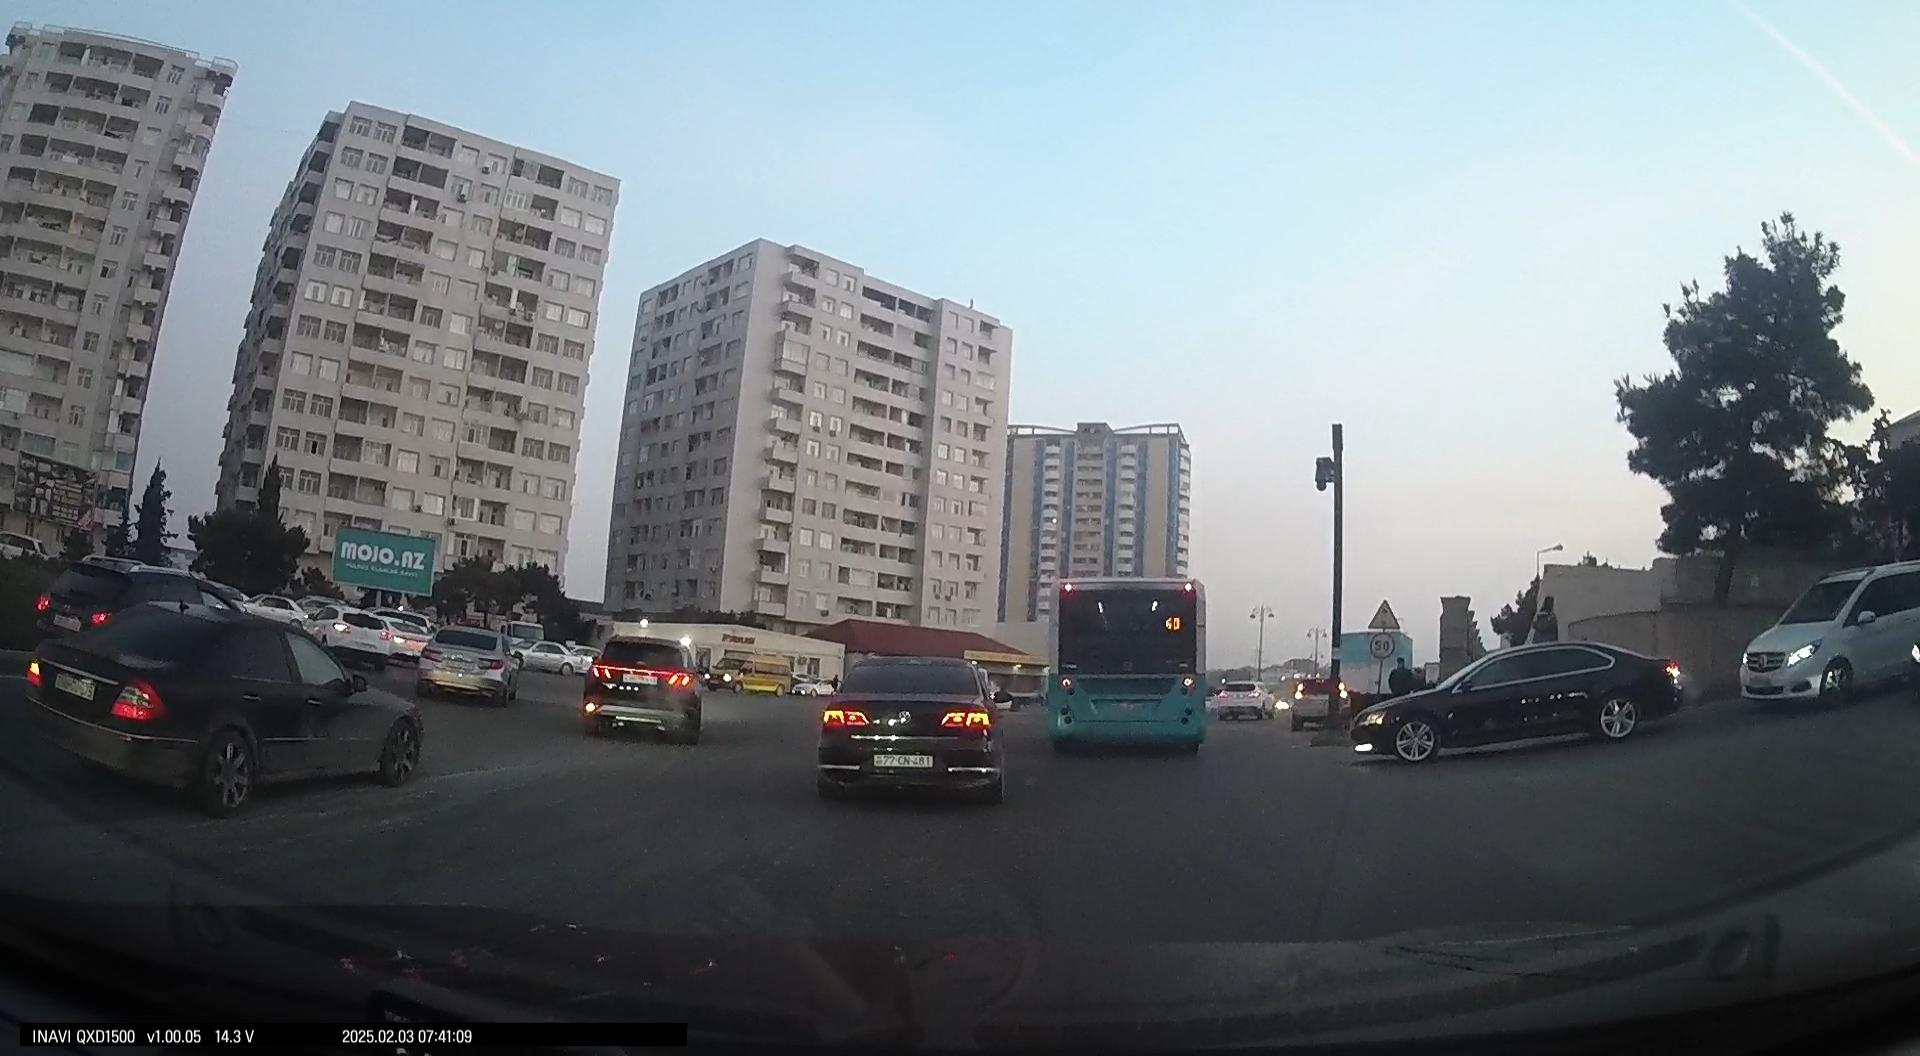banner: (9, 451, 103, 537), (331, 525, 437, 597)
